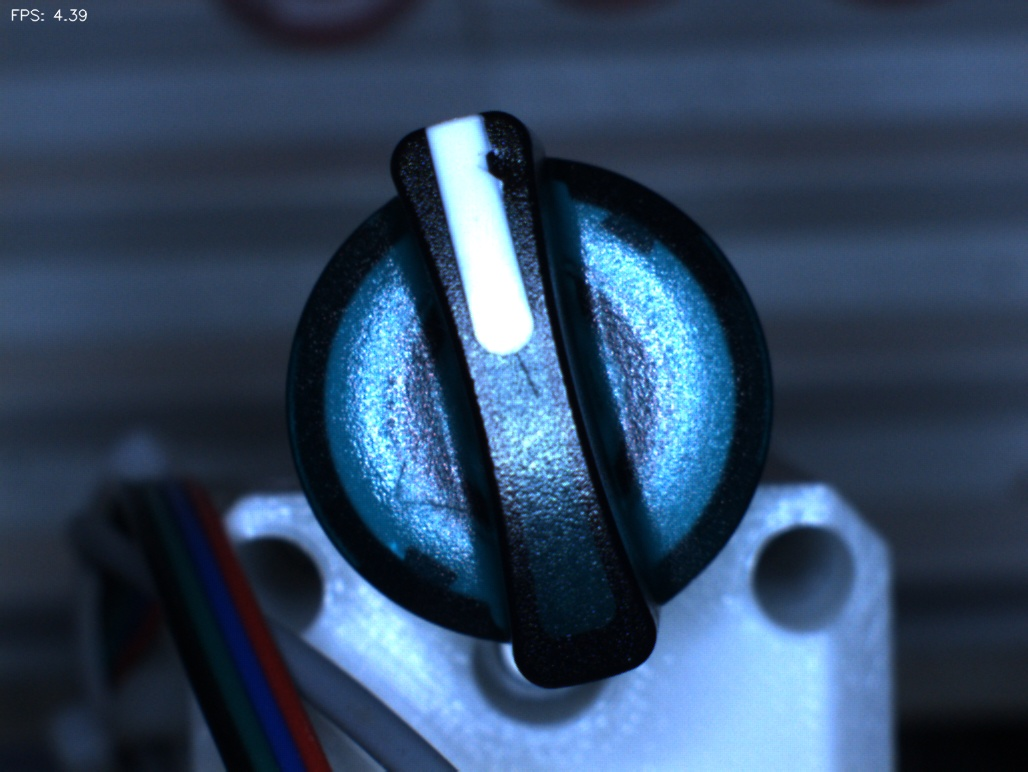Choc: (460, 124, 542, 206)
